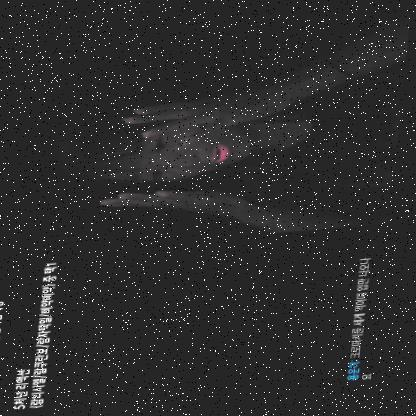streamer: (70, 37, 411, 253)
